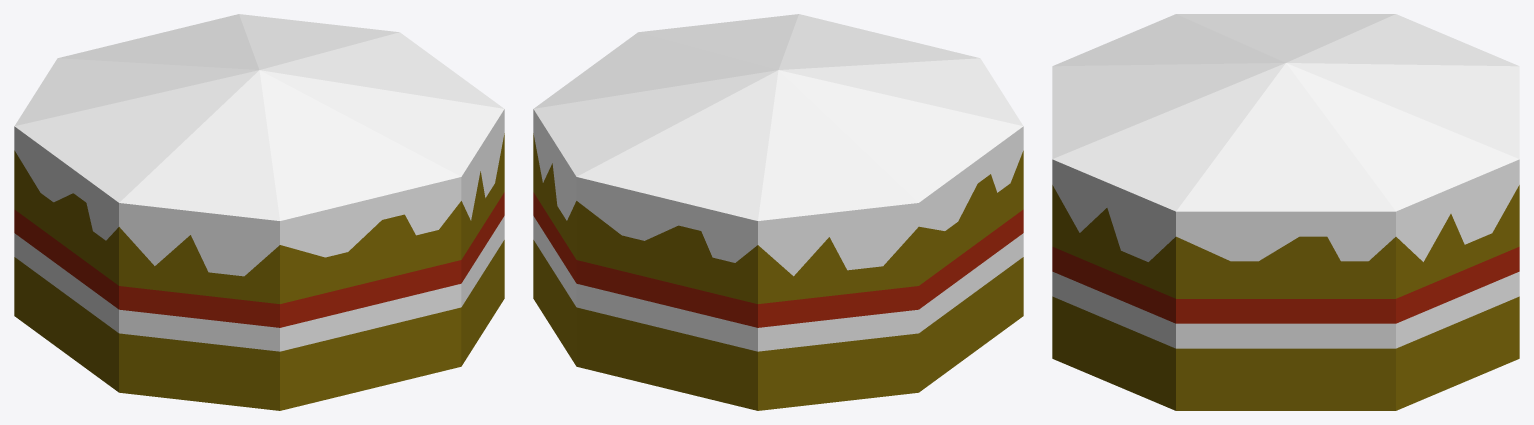
File: inv_chocolate_cake.obj
The picture shows the model from 3 angles, left to right: view 1: azimuth 30°, elevation 25°; view 2: azimuth 150°, elevation 25°; view 3: azimuth 270°, elevation 25°; orthographic projection. The views are drawn at different scales.
Bounding box in the file's own units: 0.2656 × 0.1562 × 0.2656.
